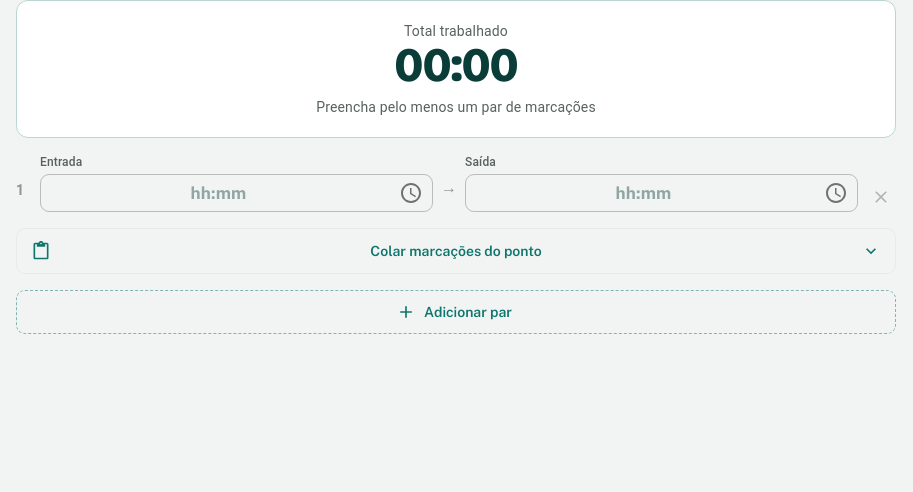
TempoTotal › adds and removes rows independently
Check: the button named "Excluir o par 1" is disabled, box [866, 182, 896, 212]
Click the button "Adicionar par" at (456, 312), box [16, 290, 896, 334]
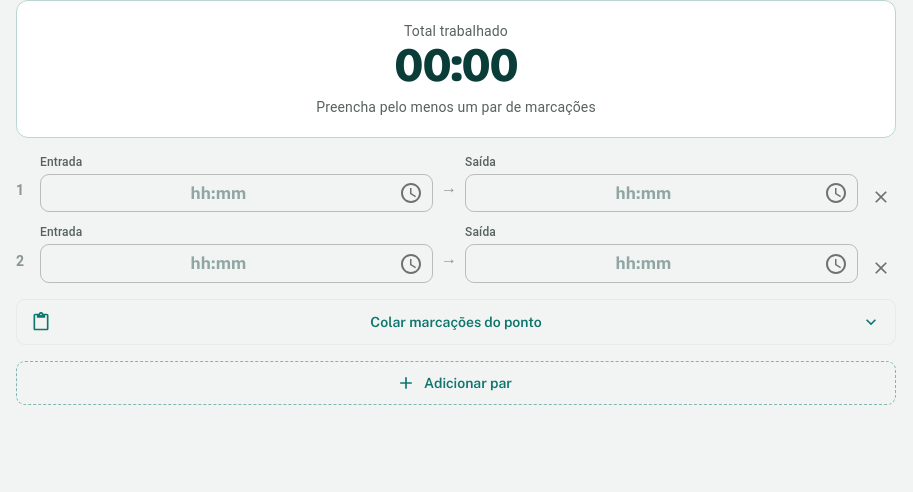
Click the button "Adicionar par" at (456, 383), box [16, 361, 896, 405]
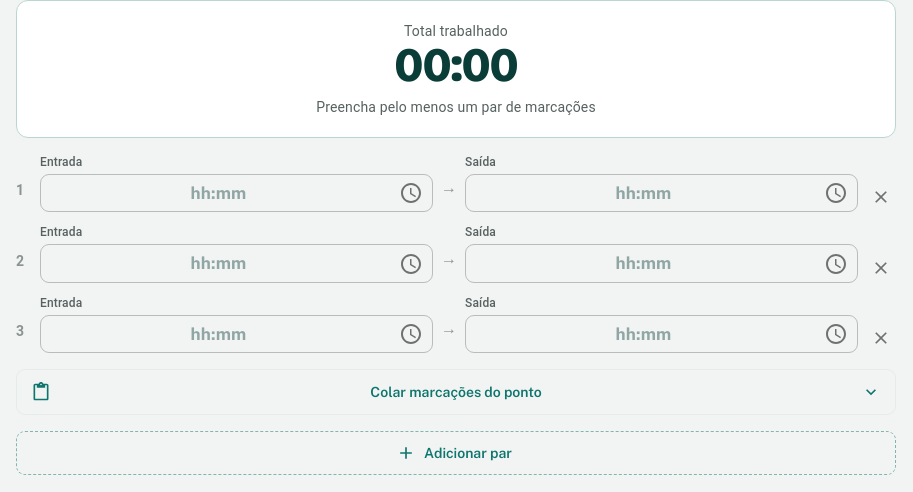
Check: the number of elements named "Entrada" is 3, box [40, 174, 433, 212]; [40, 244, 433, 283]; [40, 315, 433, 353]
Click the button named "Excluir o par 2" at (881, 268), box [866, 253, 896, 283]
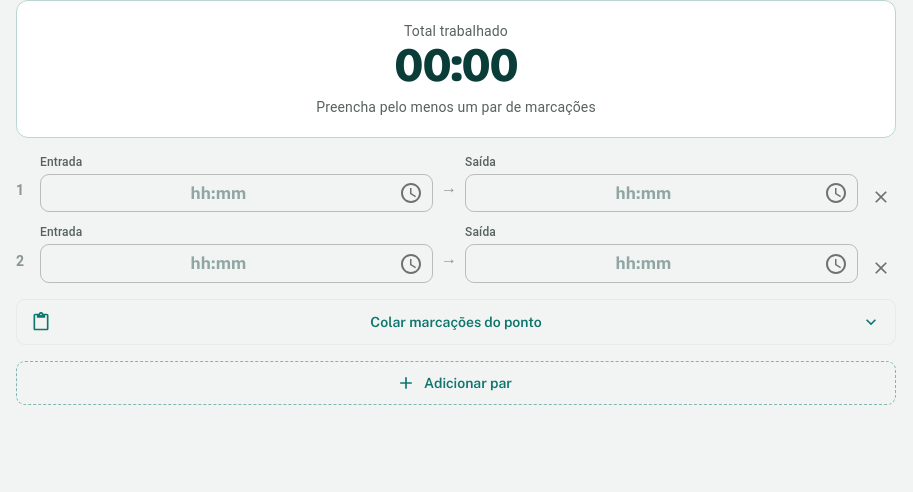
Check: the number of elements named "Entrada" is 2, box [40, 174, 433, 212]; [40, 244, 433, 283]
